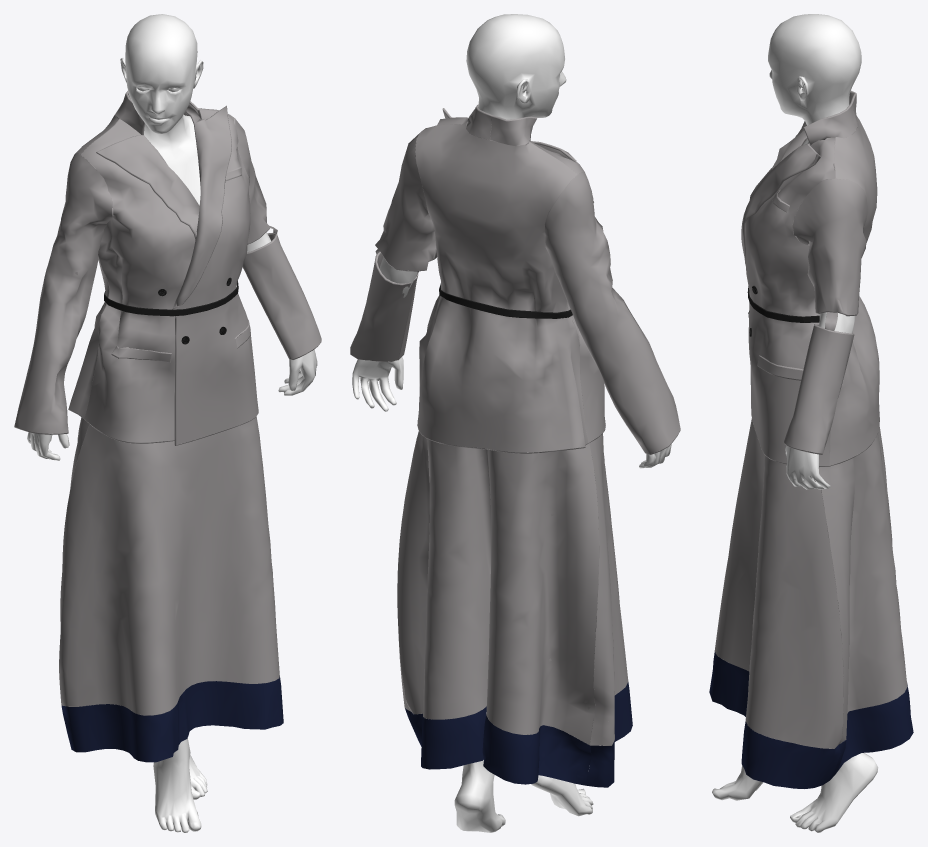
File: martin6.fbx
3 renders of one model, left to right at view 1: azimuth 30°, elevation 25°; view 2: azimuth 150°, elevation 25°; view 3: azimuth 270°, elevation 25°, orthographic. The views are drawn at different scales.
Visible parts, largest first — view 1: Martin6; view 2: Martin6; view 3: Martin6.
Part boxes in pixels (x1,y1,x2,y2): Martin6: [14, 14, 321, 832]; Martin6: [350, 14, 680, 832]; Martin6: [709, 14, 913, 832].
Bounding box in the file's own units: 79.25 × 195 × 45.47.
